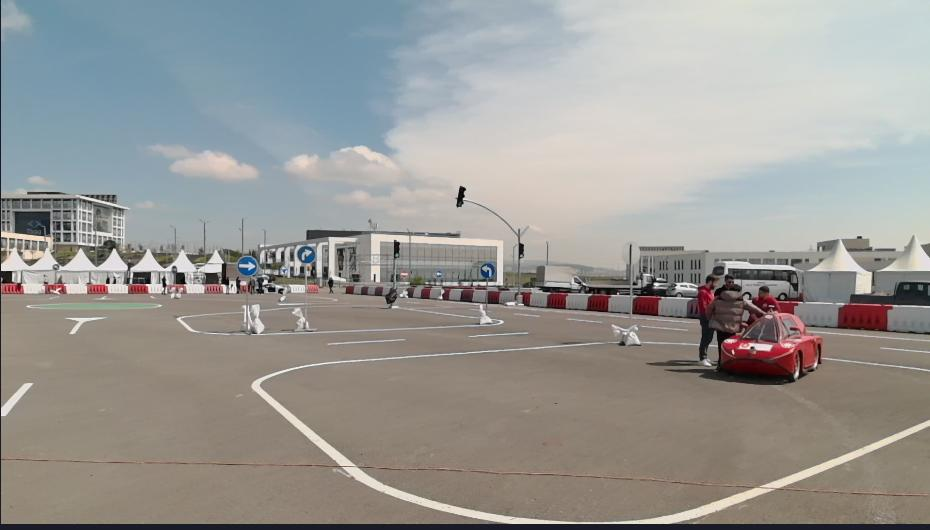nesne: (0, 290, 928, 525), (250, 339, 928, 522), (175, 310, 503, 335), (719, 311, 825, 377), (778, 301, 929, 332), (711, 274, 765, 360), (711, 260, 801, 301), (464, 198, 529, 242), (523, 289, 628, 313), (0, 283, 161, 297), (697, 271, 718, 366), (850, 280, 929, 303), (837, 304, 890, 332), (634, 295, 701, 317), (398, 285, 484, 302), (535, 265, 588, 292), (890, 304, 930, 333), (0, 381, 32, 416), (795, 303, 839, 327), (633, 269, 669, 295), (327, 334, 407, 345), (63, 316, 107, 335), (466, 328, 531, 339), (586, 277, 628, 294), (612, 320, 638, 346), (655, 296, 687, 317), (757, 285, 780, 311), (628, 244, 635, 327), (178, 283, 235, 293), (343, 284, 388, 295), (237, 254, 259, 276), (634, 296, 658, 316), (290, 303, 306, 332), (249, 302, 264, 332), (621, 241, 642, 262), (671, 282, 698, 296), (587, 294, 609, 311), (609, 295, 630, 312), (566, 294, 588, 310), (686, 296, 702, 318), (262, 281, 288, 294), (296, 246, 317, 262), (545, 292, 566, 308), (244, 274, 249, 336), (0, 284, 24, 296), (480, 261, 496, 279), (529, 291, 547, 307), (22, 284, 44, 296), (64, 283, 87, 294), (479, 304, 493, 322), (498, 290, 516, 304), (455, 185, 466, 207), (386, 286, 399, 303), (46, 284, 66, 295), (86, 283, 108, 293), (305, 264, 308, 332), (127, 284, 147, 294), (516, 256, 521, 296), (778, 301, 796, 312), (185, 284, 204, 294), (203, 284, 222, 294), (108, 283, 128, 292), (487, 289, 499, 304), (449, 289, 462, 302), (473, 288, 485, 302), (461, 290, 474, 302), (286, 284, 305, 292), (429, 289, 442, 300), (257, 274, 264, 293), (277, 291, 290, 301), (147, 284, 161, 293), (328, 275, 335, 293), (392, 257, 396, 288), (485, 275, 488, 316), (440, 288, 450, 300), (393, 239, 399, 258), (221, 284, 237, 291), (517, 292, 525, 306), (421, 287, 430, 299), (173, 273, 177, 299), (162, 275, 167, 295), (523, 292, 530, 305), (176, 282, 185, 292), (236, 275, 241, 293), (250, 276, 255, 294), (308, 283, 318, 292), (374, 286, 383, 296), (398, 286, 407, 296), (518, 242, 524, 257), (414, 287, 422, 298), (344, 285, 353, 294), (407, 287, 414, 298), (352, 285, 360, 294), (360, 286, 367, 295), (382, 286, 389, 295), (367, 286, 374, 294), (171, 264, 177, 273), (52, 263, 58, 271), (54, 270, 57, 285)
